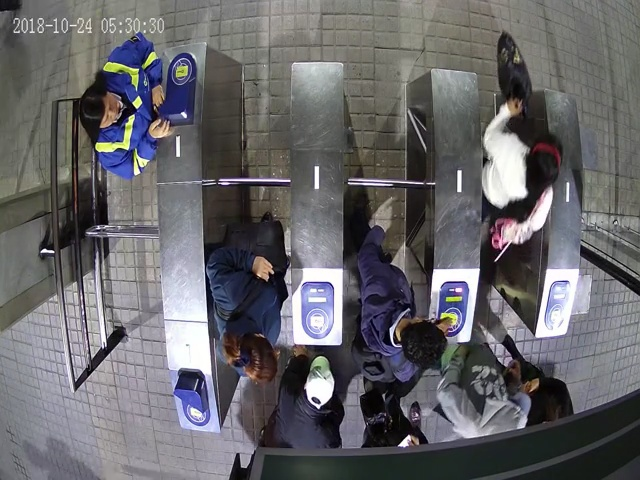Chaleco_azul: (79, 31, 172, 178)
